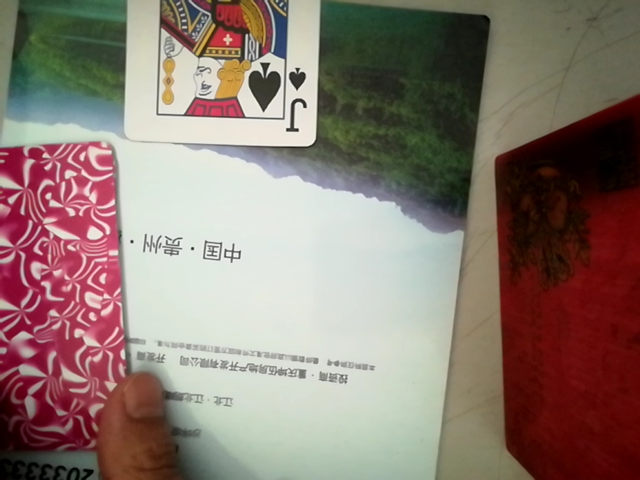ht j: (119, 0, 338, 155)
